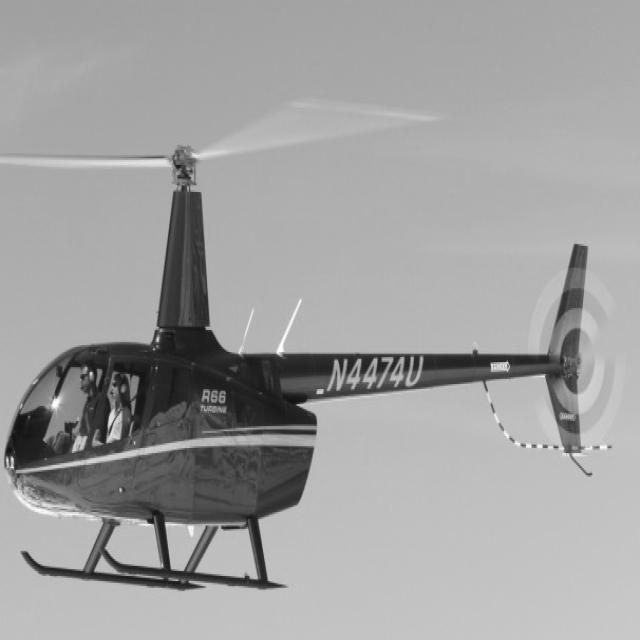helicopter: (1, 93, 631, 604)
